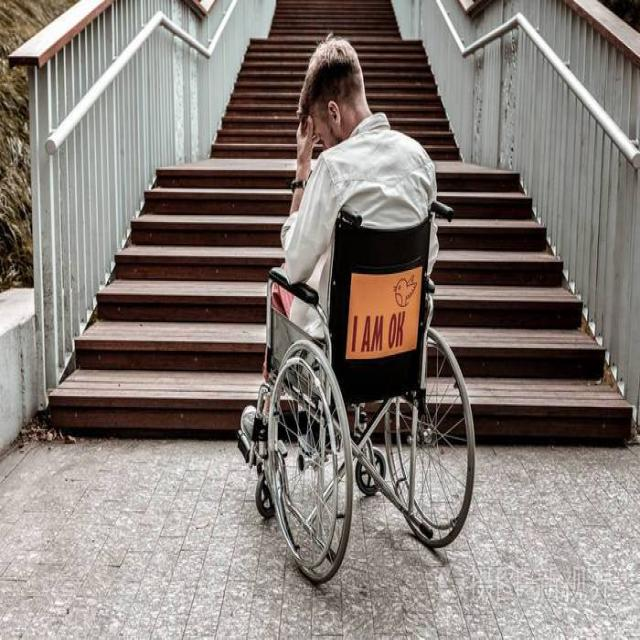wheelchairs: (231, 179, 484, 588)
